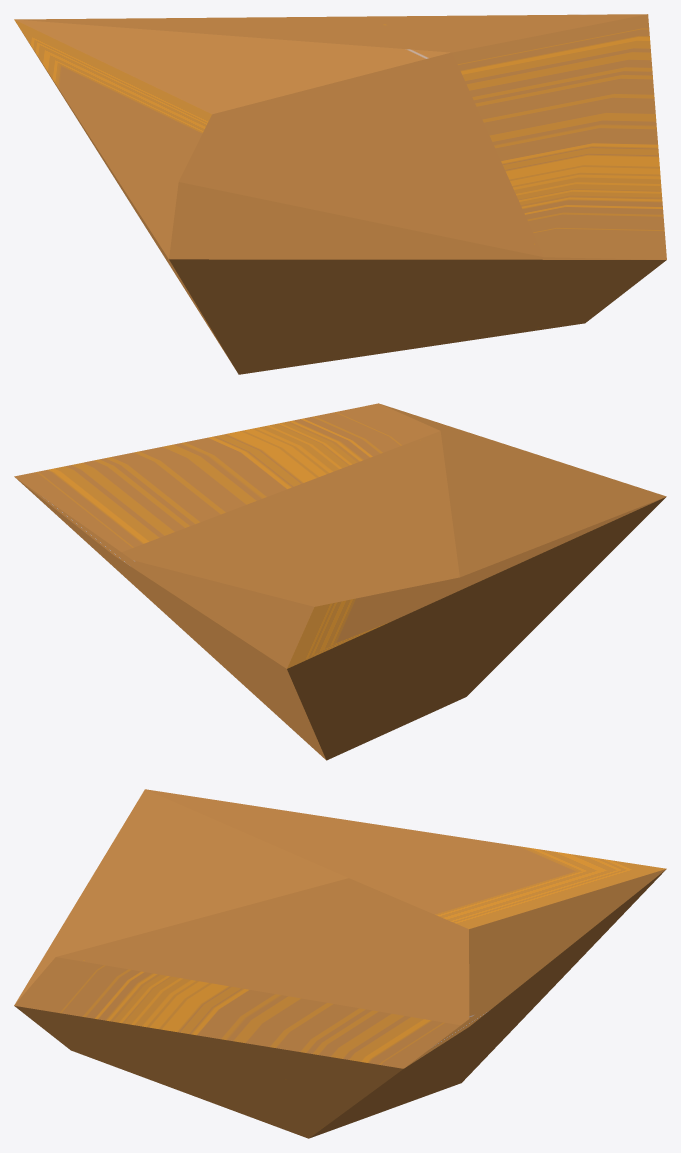
File: paninferior.glb
The picture shows the model from 3 angles, top to bottom: view 1: azimuth 30°, elevation 25°; view 2: azimuth 150°, elevation 25°; view 3: azimuth 270°, elevation 25°; orthographic projection. The views are drawn at different scales.
Parts seen in each view (by area): view 1: PanInferior; view 2: PanInferior; view 3: PanInferior.
Part boxes in pixels (x1,y1,x2,y2): PanInferior: (14, 14, 666, 374); PanInferior: (14, 403, 666, 760); PanInferior: (14, 789, 666, 1138).
Size of the model in its own units: 3.59 by 1.28 by 3.77.
Materials: 1 (1 with a texture image).
